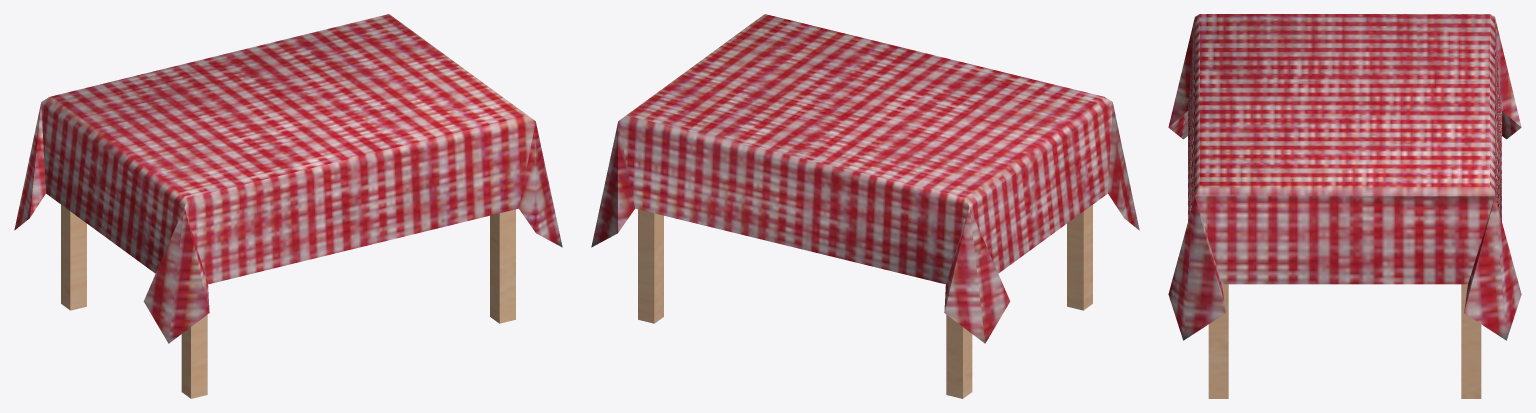
File: Table.fbx
3 views of the same model, side by side, from view 1: azimuth 30°, elevation 25°; view 2: azimuth 150°, elevation 25°; view 3: azimuth 270°, elevation 25° (orthographic). The views are drawn at different scales.
Visible parts, largest first — view 1: Table; view 2: Table; view 3: Table.
Part boxes in pixels (box(x1,y1,x2,y2)): Table: box(14, 14, 562, 398); Table: box(591, 14, 1139, 398); Table: box(1168, 14, 1521, 398).
Size of the model in its own units: 193 by 93.92 by 140.
